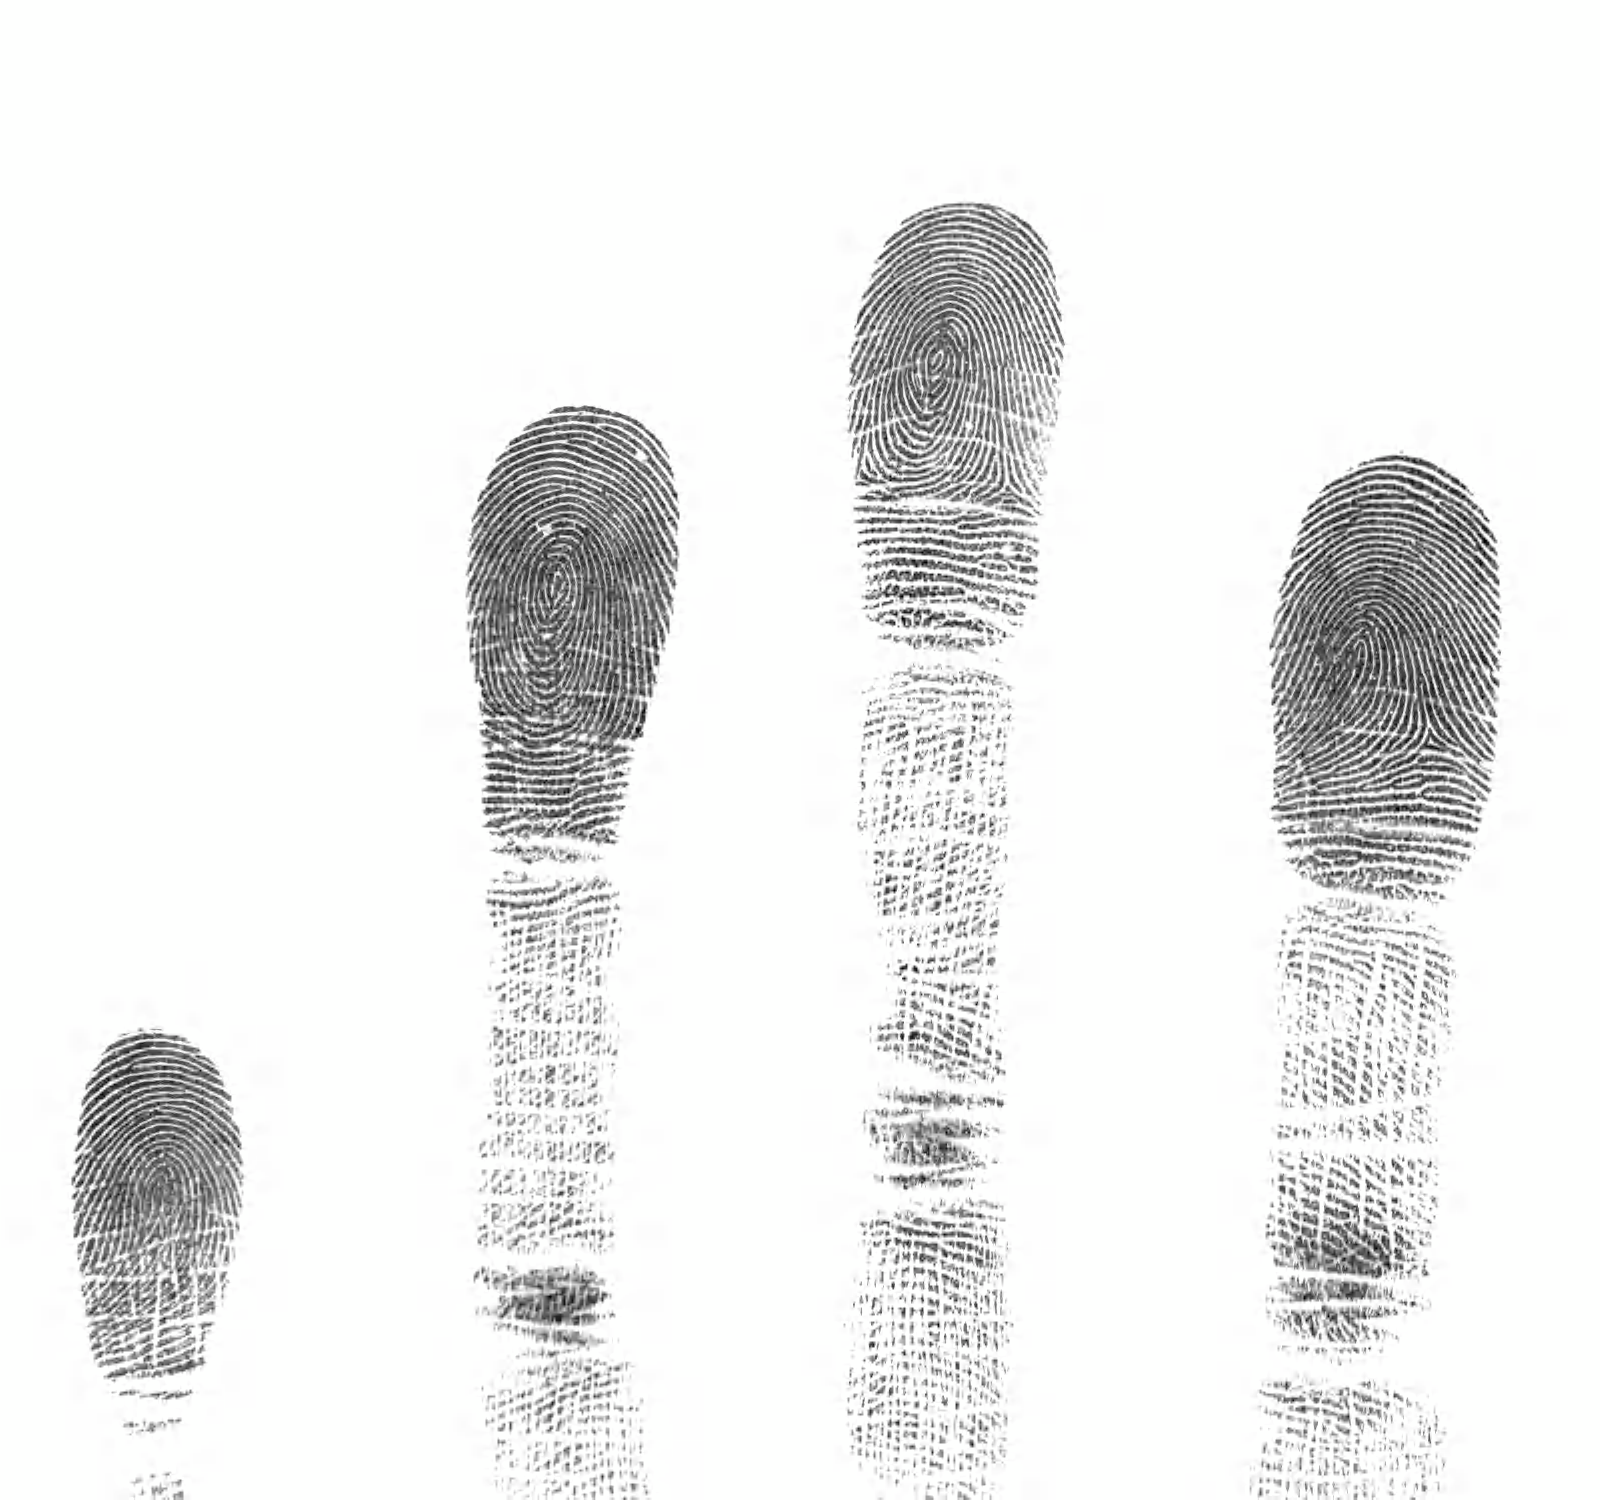distal: (822, 161, 1126, 680), (1250, 422, 1535, 901), (445, 388, 699, 874), (56, 1022, 283, 1415)
proximal: (805, 636, 1107, 1159), (1231, 883, 1508, 1315), (444, 844, 658, 1308)
